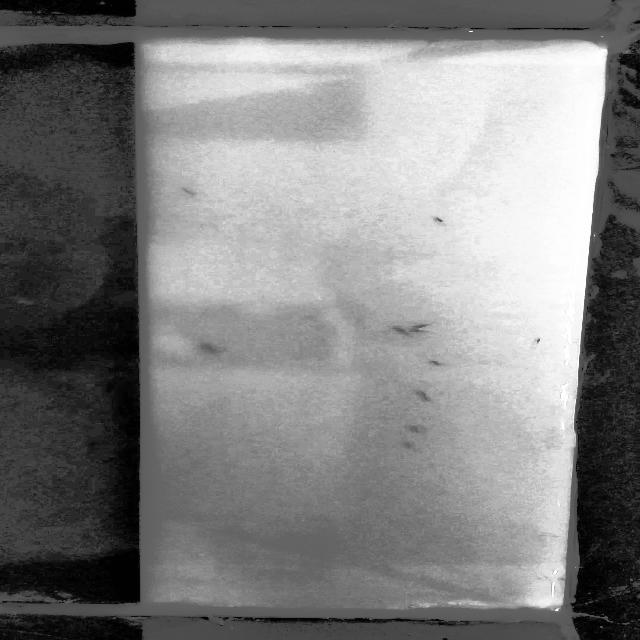shrimp: (188, 336, 228, 358), (398, 419, 432, 439), (410, 384, 438, 408), (418, 352, 451, 369), (393, 440, 425, 456), (522, 331, 550, 348), (409, 317, 436, 333), (423, 214, 452, 226), (383, 324, 412, 336)
